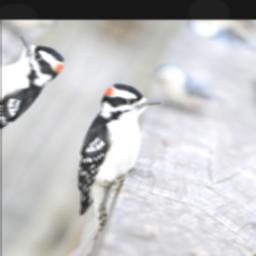Woodpecker: (21, 68, 187, 243)
